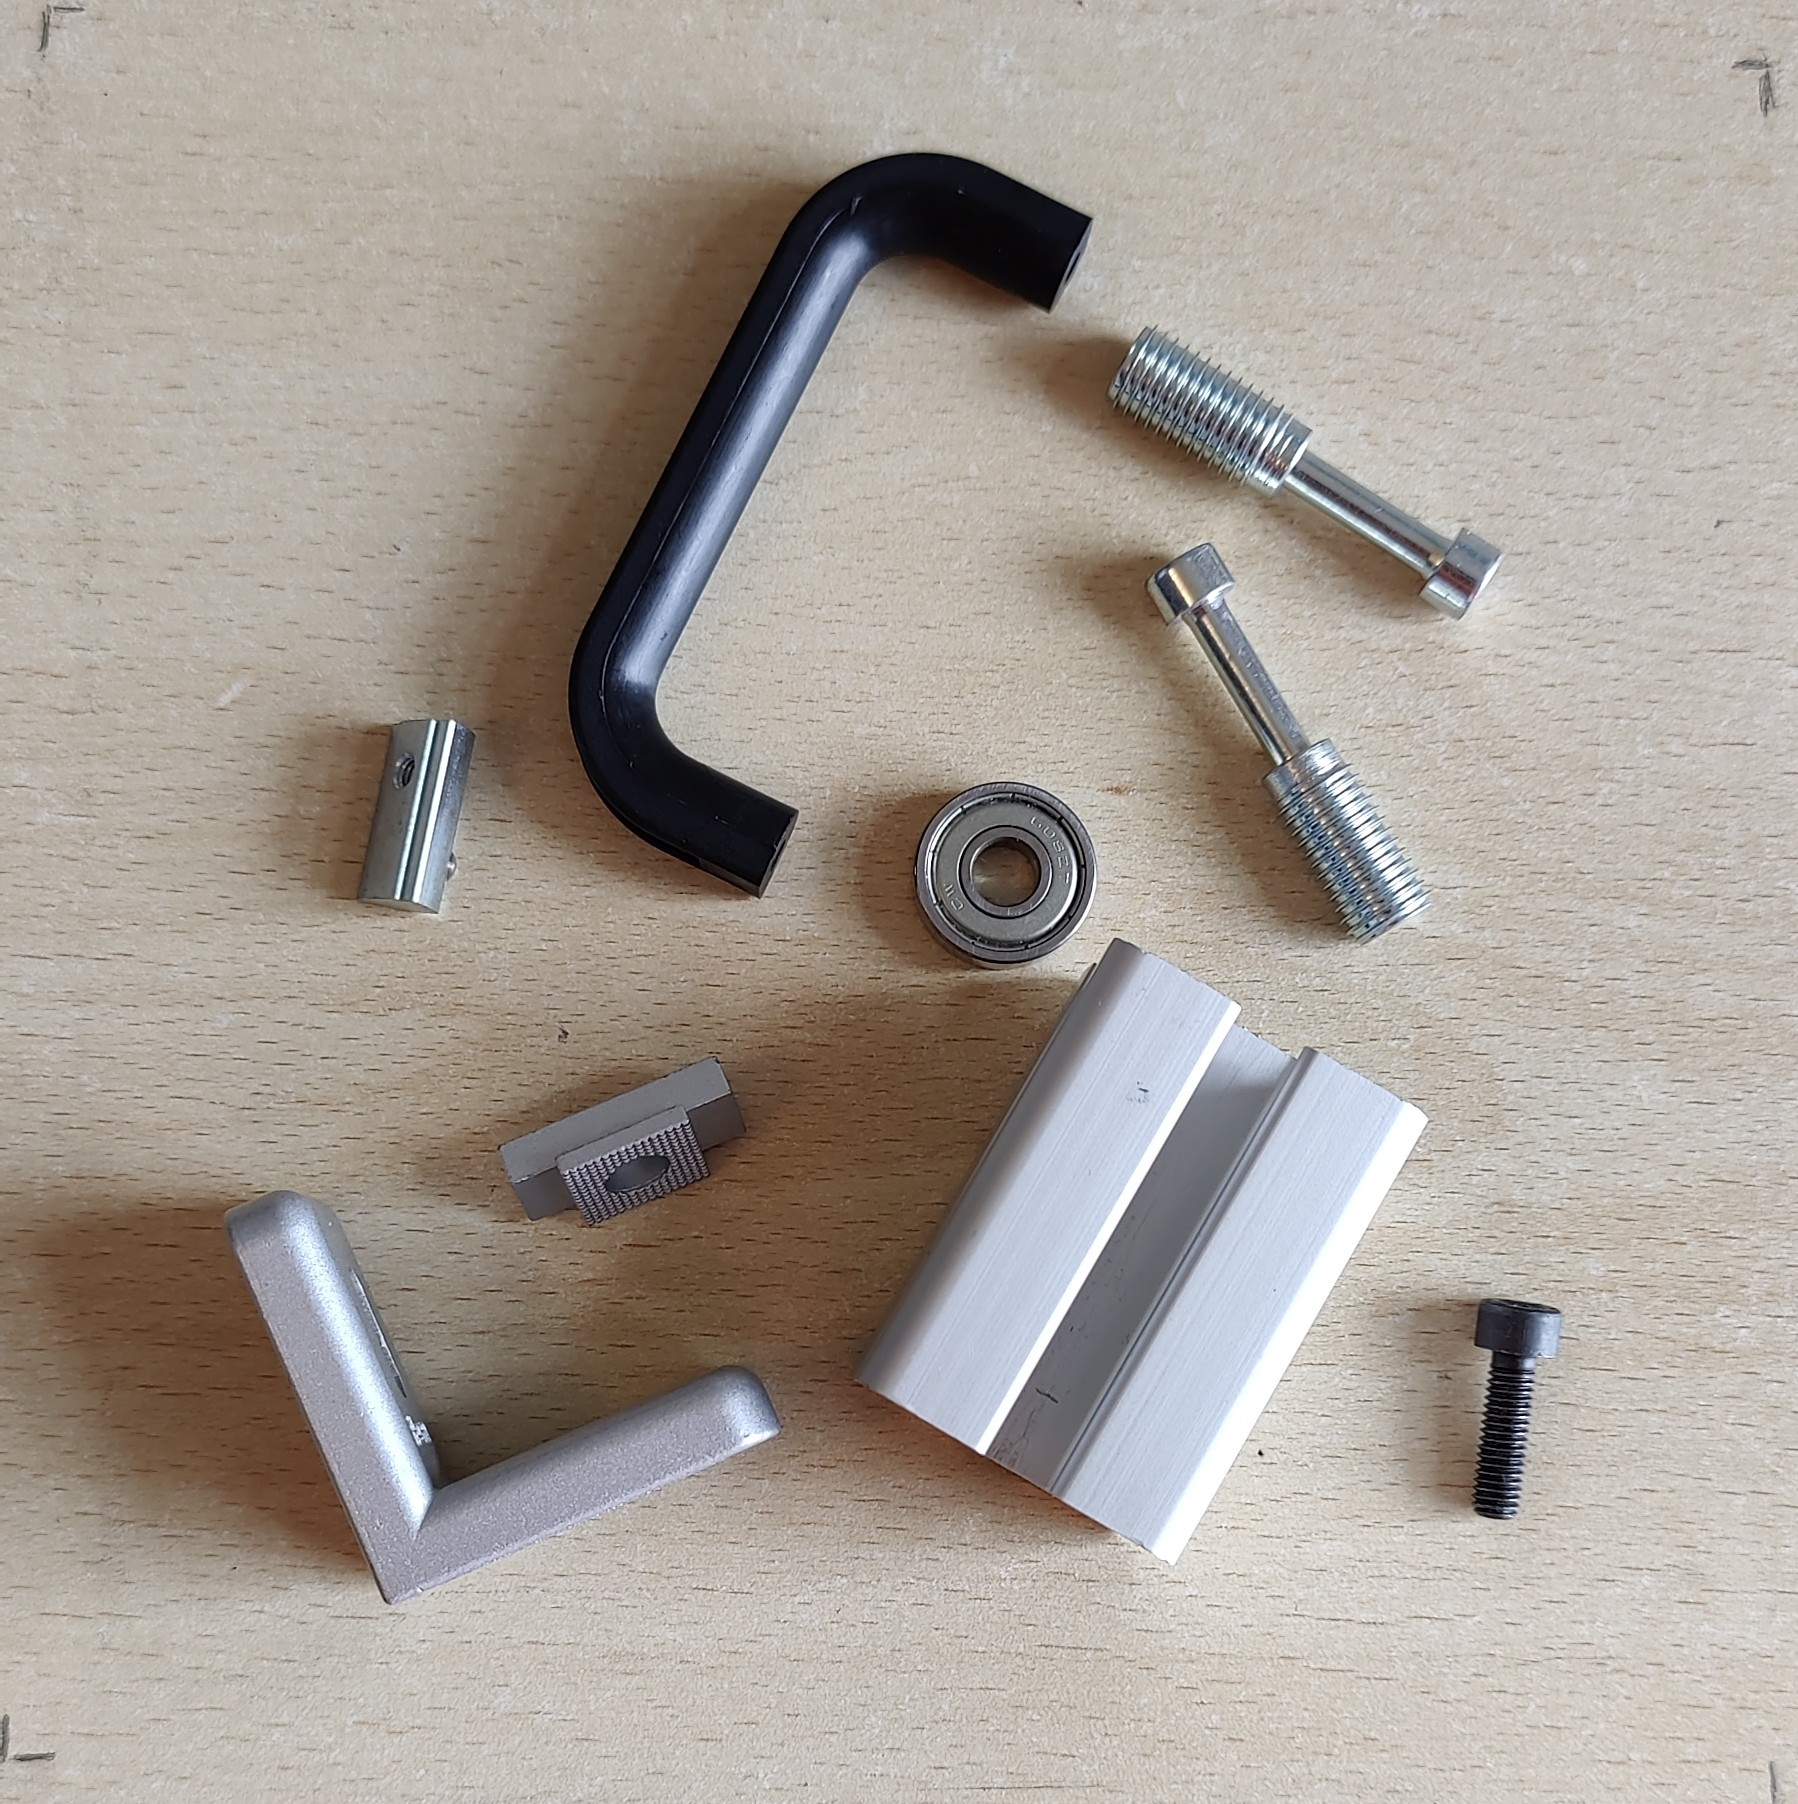Aluminium Extension: (846, 938, 1429, 1570)
Ball Bearing: (909, 779, 1098, 971)
Multiwinkel: (222, 1187, 787, 1608)
Pull Handle: (566, 150, 1097, 904)
Shoulder Socket Head Cap Screw: (1102, 319, 1507, 625), (1143, 537, 1436, 946)
Socket Head Cap Screw: (1469, 1299, 1564, 1523)
T Nut Square: (499, 1052, 752, 1230)
T Spring Nut: (352, 714, 477, 917)
